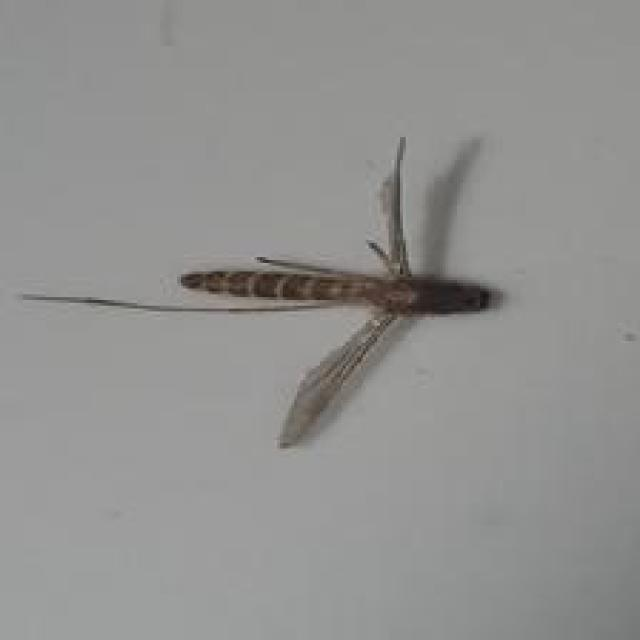Culex: (17, 134, 503, 449)
